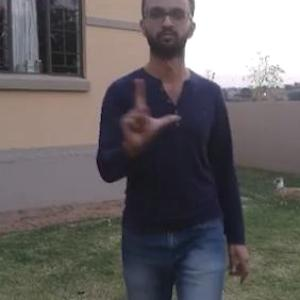land_hand: (115, 67, 184, 149)
